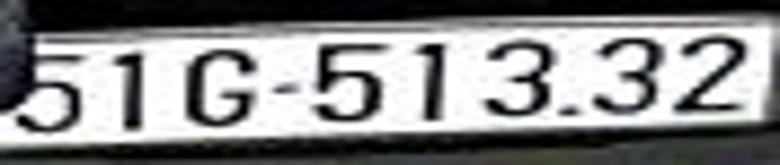-: (271, 79, 302, 102)
.: (556, 96, 587, 122)
1: (111, 49, 150, 134), (413, 39, 450, 126)
2: (672, 33, 750, 115)
3: (593, 35, 666, 116), (481, 37, 553, 118)
5: (314, 38, 388, 128), (17, 49, 91, 138)
G: (182, 47, 256, 134)
